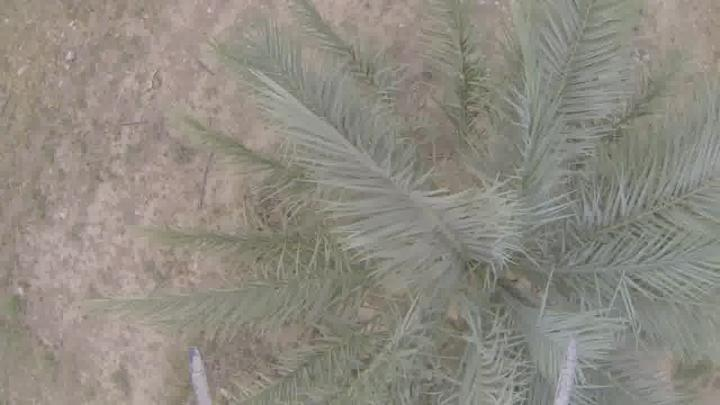Date-Palm-Crown: (292, 66, 694, 404)
